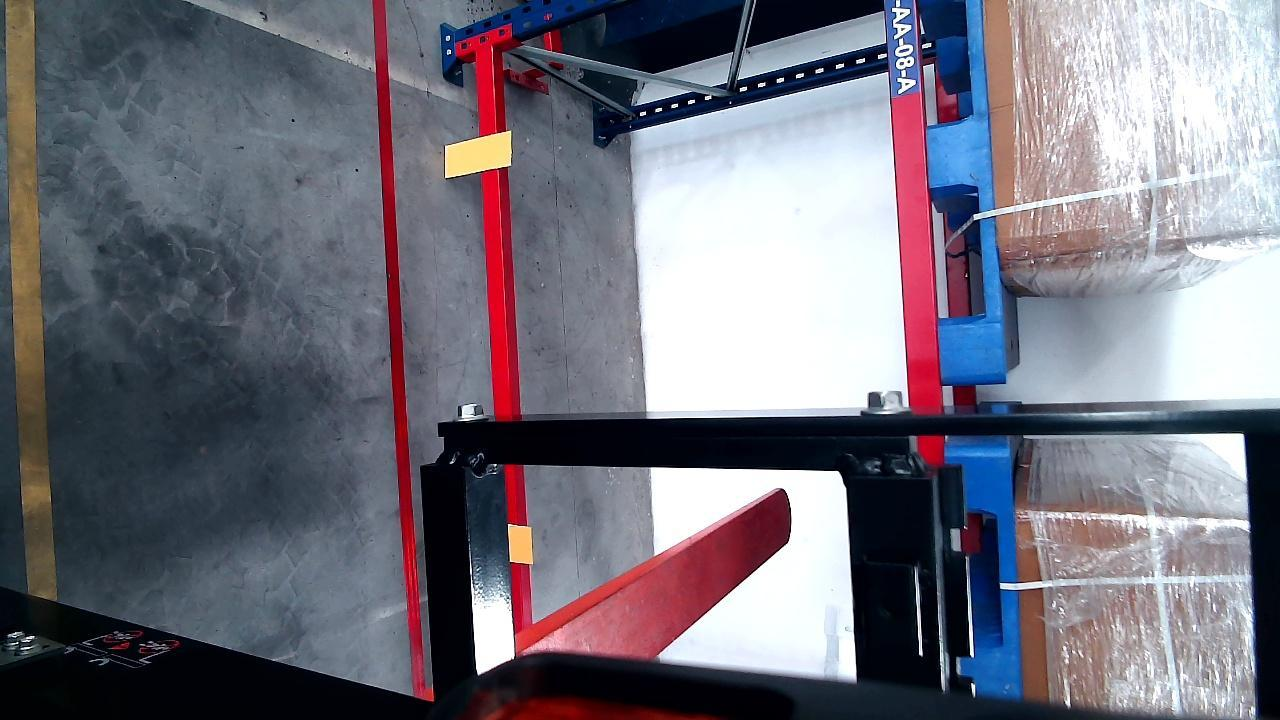red_line: (374, 0, 423, 693)
yellow_line: (7, 0, 53, 613)
